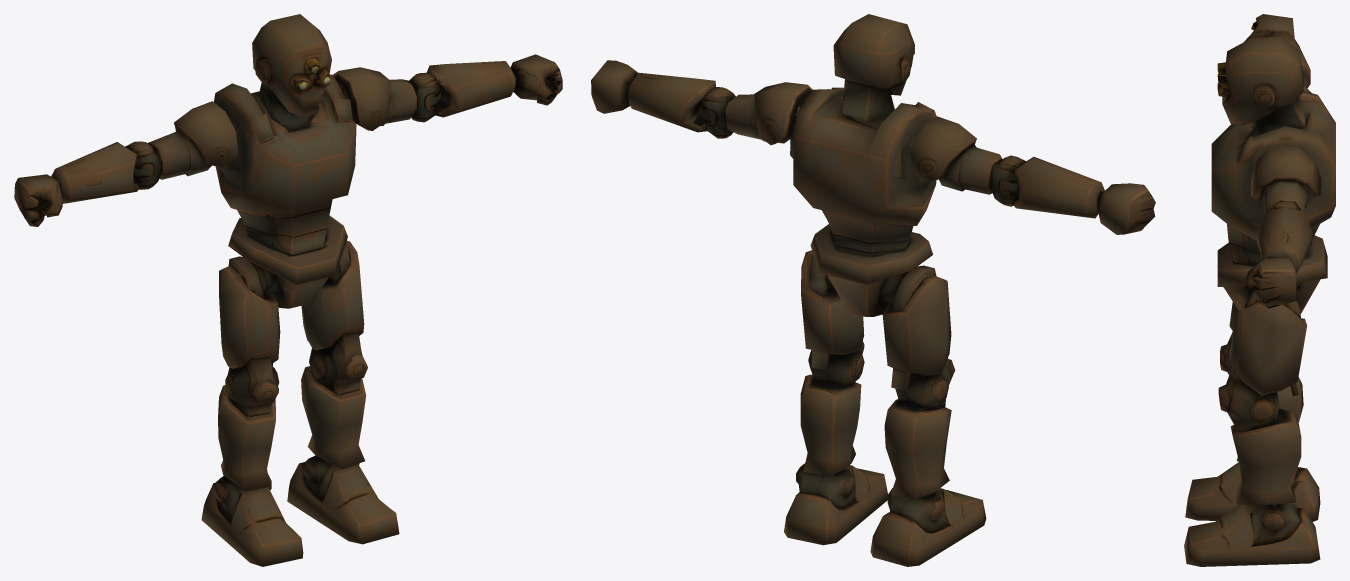
The model's file is HB0Tripo.fbx.
3 views of the same model, side by side, from view 1: azimuth 30°, elevation 25°; view 2: azimuth 150°, elevation 25°; view 3: azimuth 270°, elevation 25° (orthographic). The views are drawn at different scales.
Parts seen in each view (by area): view 1: tripo_node_ec35c636; view 2: tripo_node_ec35c636; view 3: tripo_node_ec35c636.
Part boxes in pixels (box(x1,y1,x2,y2)): tripo_node_ec35c636: box(14, 14, 562, 566); tripo_node_ec35c636: box(591, 14, 1155, 566); tripo_node_ec35c636: box(1184, 14, 1335, 566).
Bounding box in the file's own units: 99.8 × 24.8 × 88.09.
1 material, 1 textured.
